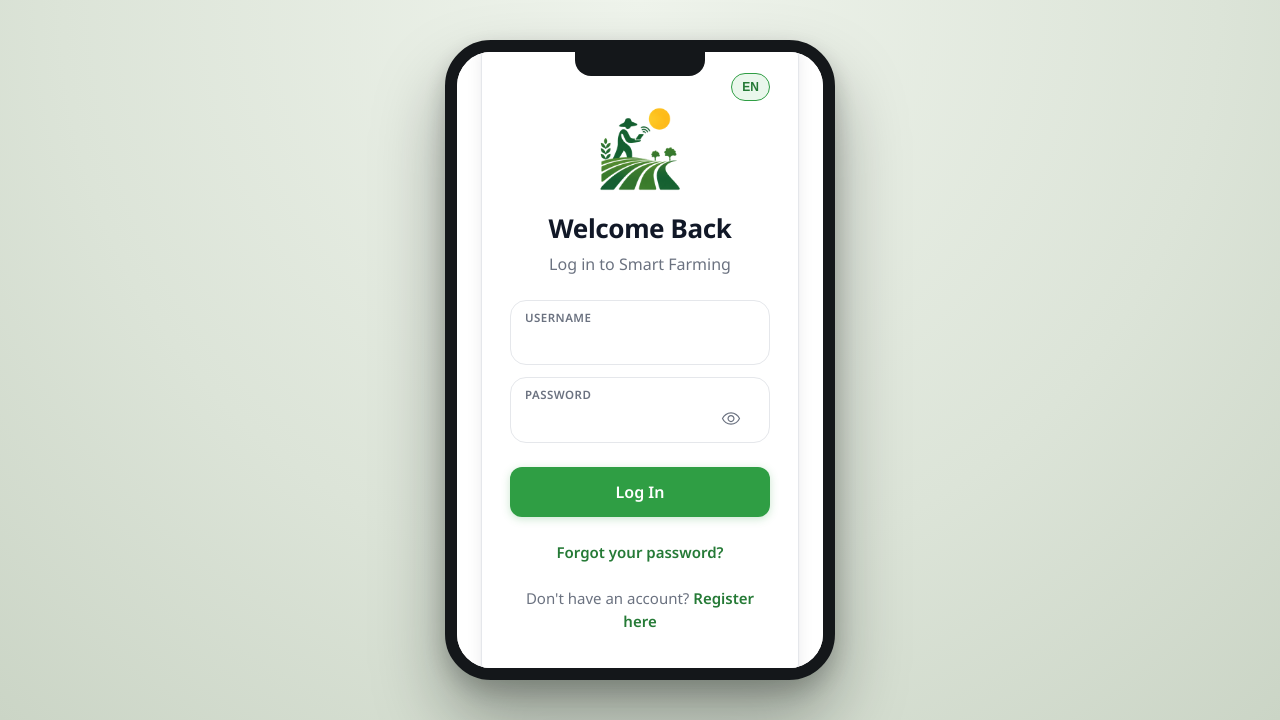
Scenario: LoginPage › lets the user reveal and re-hide their password while typing it
Type "SecurePass#2026" into the password field labelled "Password" at [640, 419], box [525, 406, 755, 432]
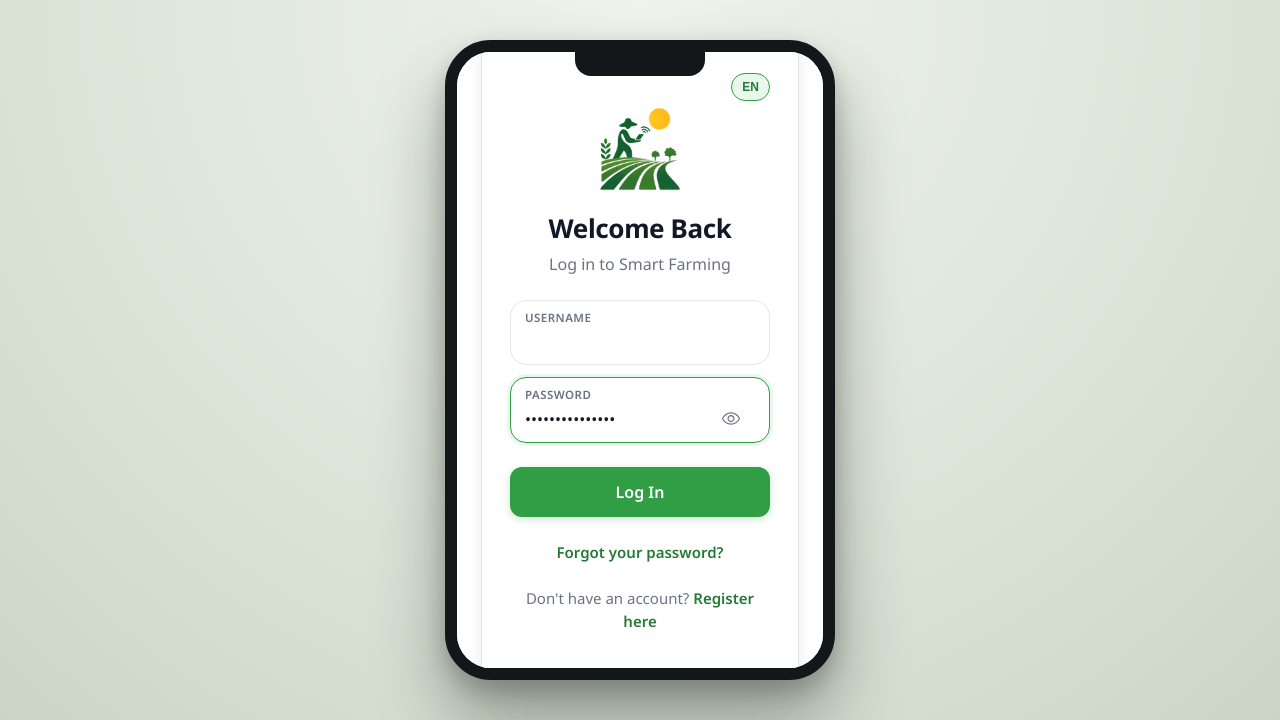
Click the button named "show password" at [731, 419], box [713, 401, 749, 437]
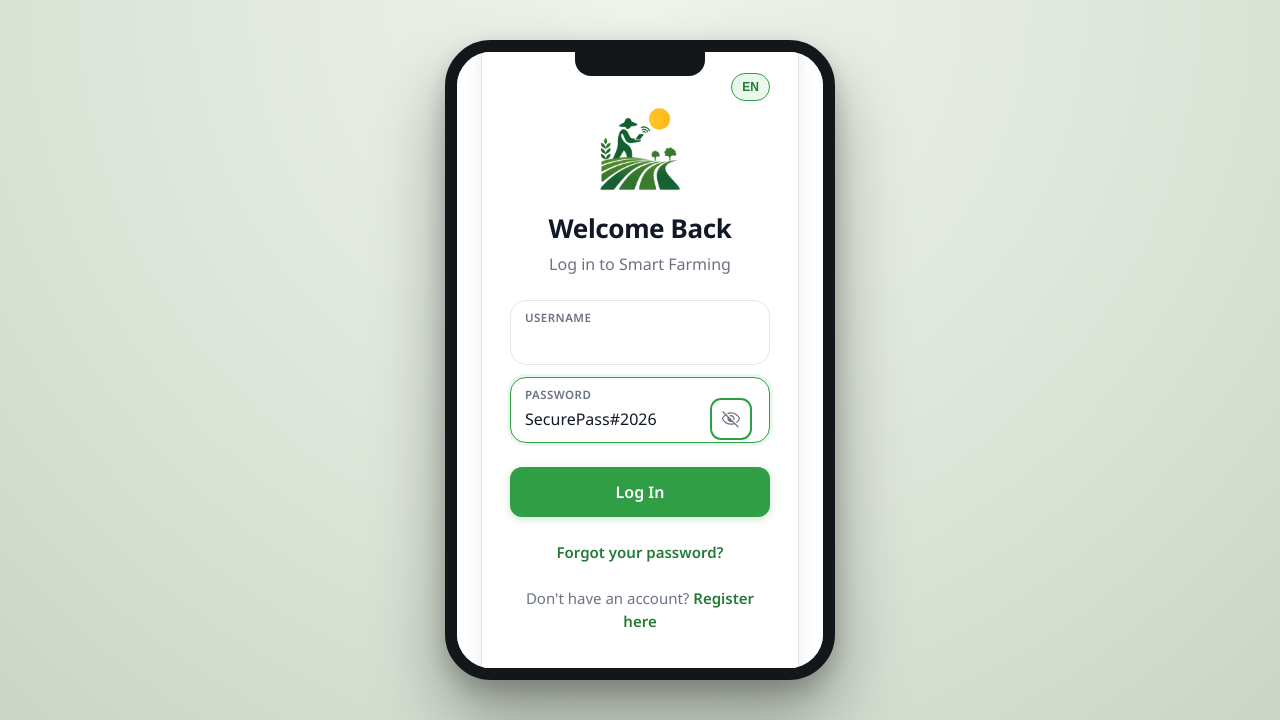
Expected: the field labelled "Password" shows its text, [525, 406, 755, 432]
Click the button named "hide password" at [731, 419], box [713, 401, 749, 437]
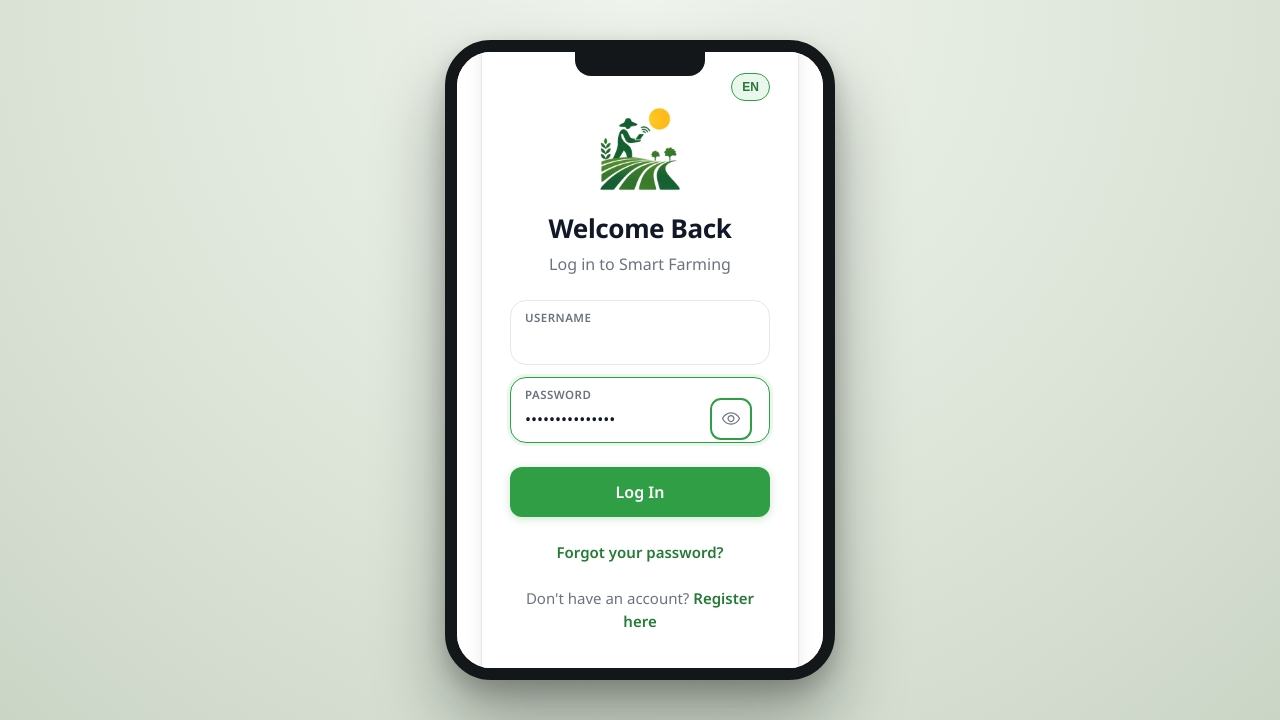
Expected: the password field labelled "Password" hides its text, [525, 406, 755, 432]
